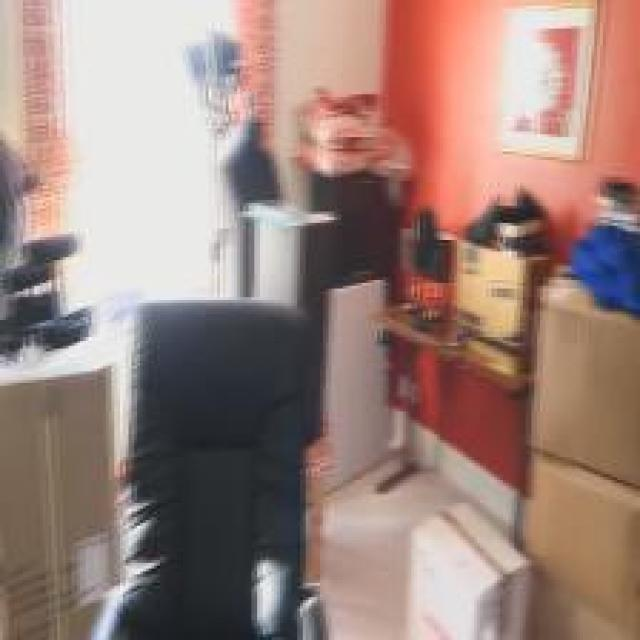other: (86, 41, 200, 274), (436, 18, 493, 153)
